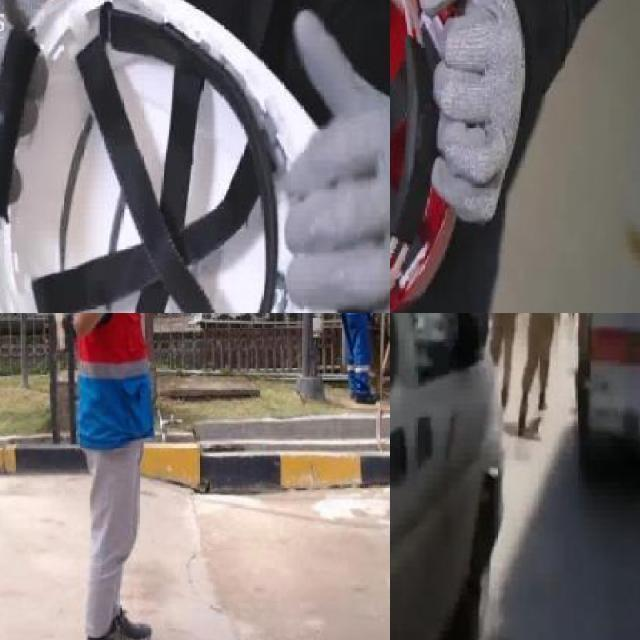apron: (280, 5, 390, 313), (419, 0, 526, 225), (0, 0, 50, 252)
